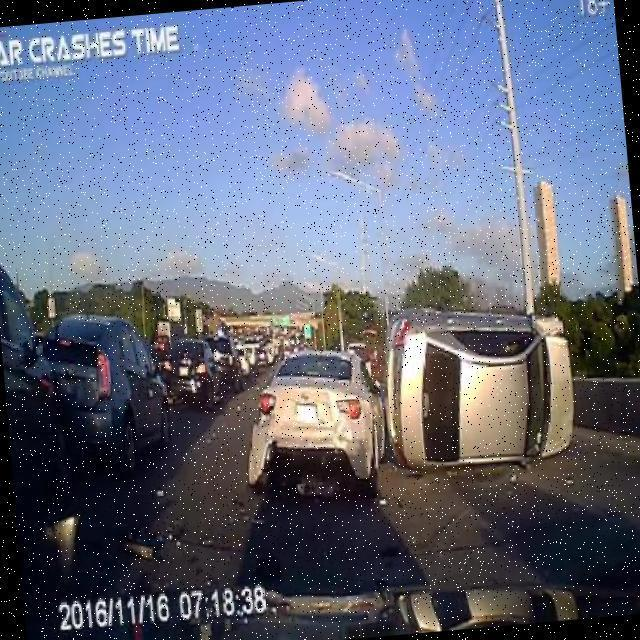accident: (256, 305, 501, 477)
